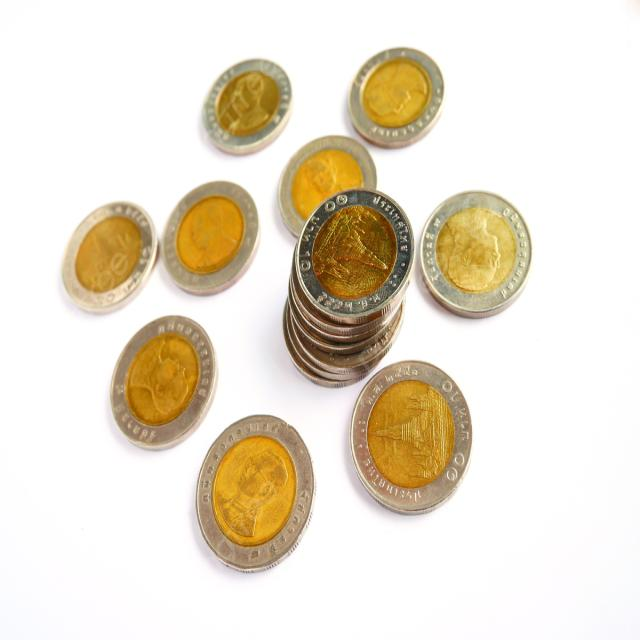10 Bath: (345, 358, 477, 518), (192, 415, 318, 575), (298, 189, 416, 325), (420, 185, 535, 322), (108, 314, 221, 450), (161, 180, 262, 302), (61, 202, 159, 313), (277, 138, 381, 241), (348, 44, 447, 151), (203, 54, 295, 159)
